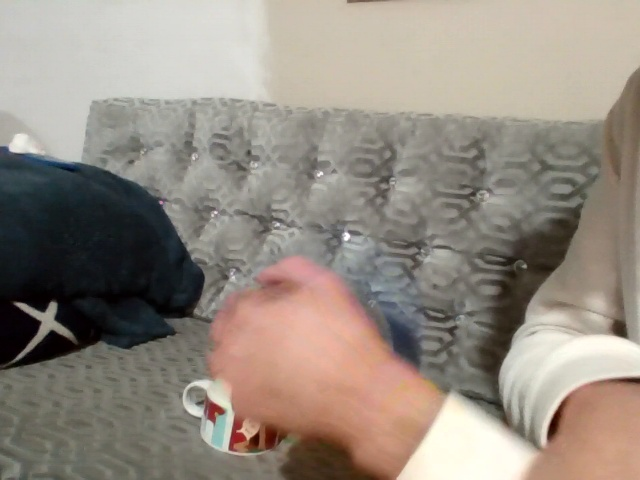taza: (173, 347, 281, 467)
